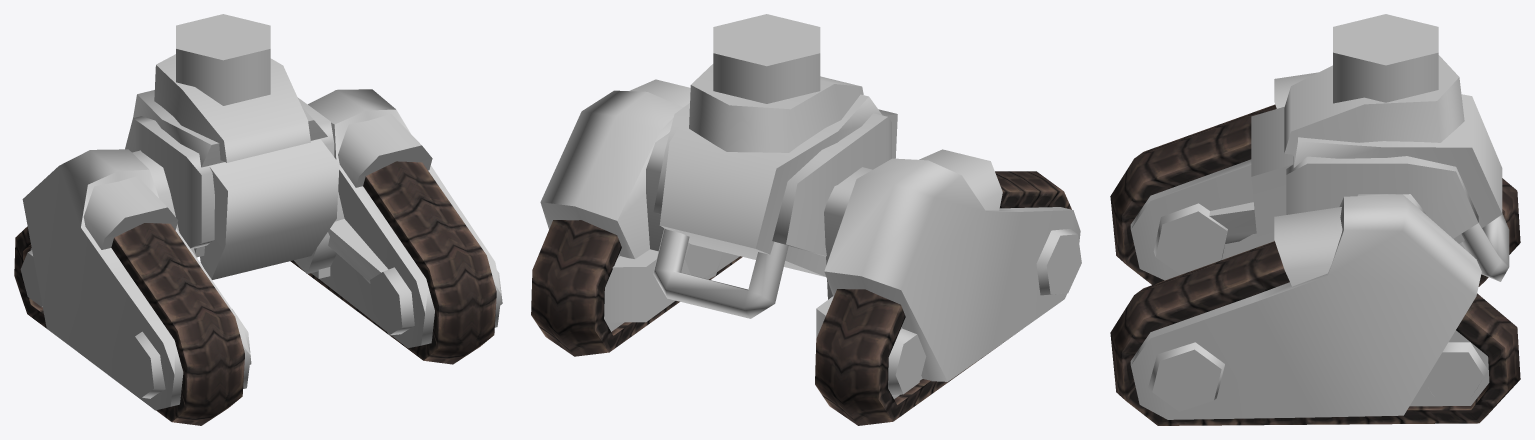
File: Legs_Tracks_Lvl0.fbx
3 views of the same model, side by side, from view 1: azimuth 30°, elevation 25°; view 2: azimuth 150°, elevation 25°; view 3: azimuth 270°, elevation 25° (orthographic). The views are drawn at different scales.
Parts seen in each view (by area): view 1: Pelvis_Geom, Side_R_Geom, Side_L_Geom, Tracks_R_Geom, Tracks_L_Geom; view 2: Pelvis_Geom, Side_R_Geom, Side_L_Geom, Tracks_R_Geom, Tracks_L_Geom; view 3: Side_L_Geom, Pelvis_Geom, Tracks_L_Geom, Side_R_Geom, Tracks_R_Geom.
Part boxes in pixels (x1,y1,x2,y2): Pelvis_Geom: (125,14,339,279); Side_R_Geom: (20,149,251,410); Side_L_Geom: (294,89,502,348); Tracks_R_Geom: (14,223,244,425); Tracks_L_Geom: (290,161,496,364); Pelvis_Geom: (653,14,897,318); Side_R_Geom: (816,149,1081,398); Side_L_Geom: (540,79,739,331); Tracks_R_Geom: (815,171,1071,425); Tracks_L_Geom: (531,220,742,356); Side_L_Geom: (1130,194,1489,419); Pelvis_Geom: (1251,14,1509,281); Tracks_L_Geom: (1110,241,1520,425); Side_R_Geom: (1130,72,1465,280); Tracks_R_Geom: (1110,104,1520,286).
Size of the model in its own units: 267 by 206 by 245.
